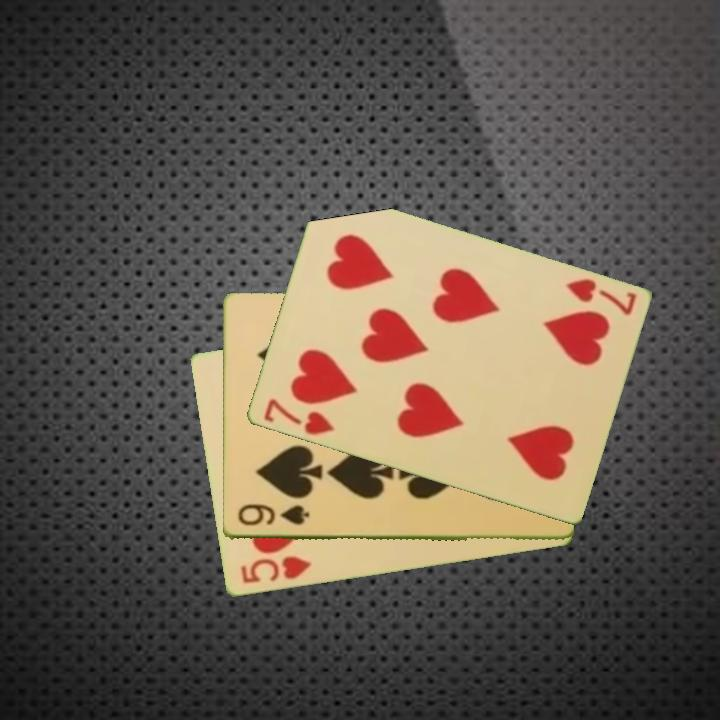5h: (237, 553, 315, 587)
7h: (259, 395, 337, 439), (562, 275, 639, 319)
9s: (234, 502, 312, 529)
